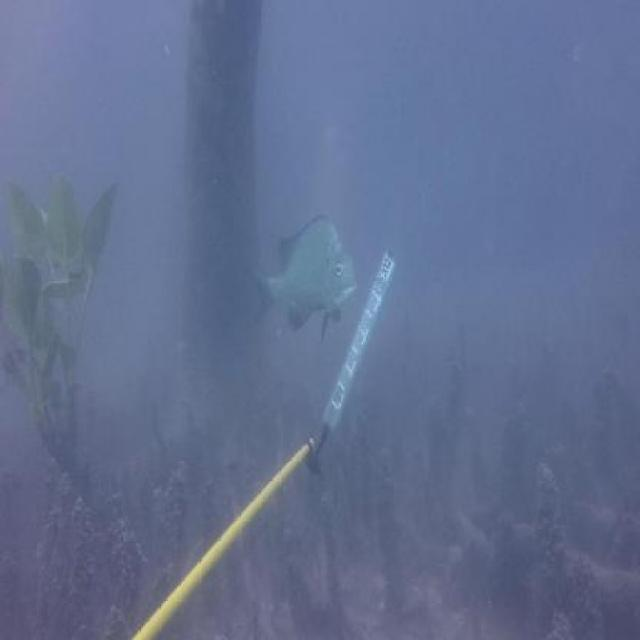acanthopagrus_palmaris: (249, 213, 360, 339)
